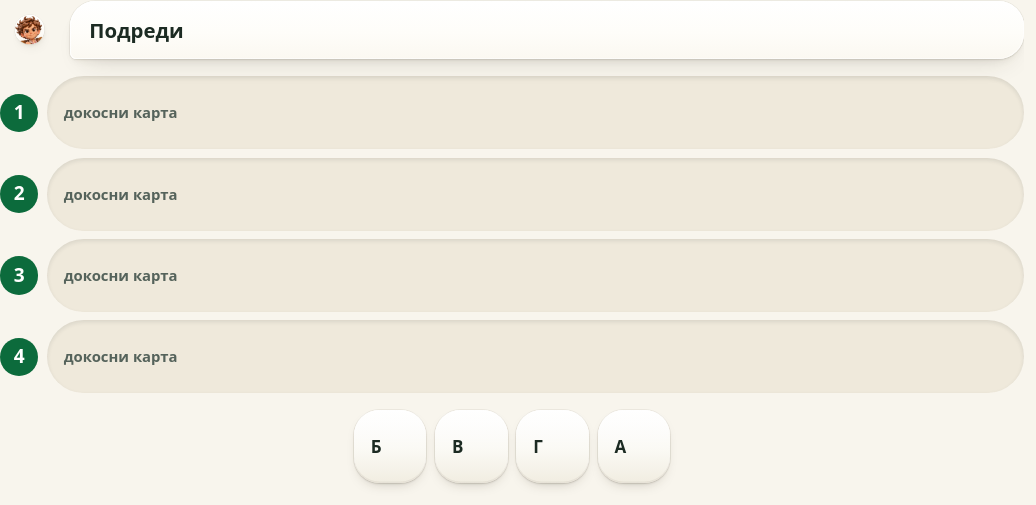
Test case: order › locks the right places, returns the wrong ones and helps
This screenshot has width=1036, height=505.
Later steps or results of the test are not shown.
Click the button "А": (634, 446) [598,410,670,483]
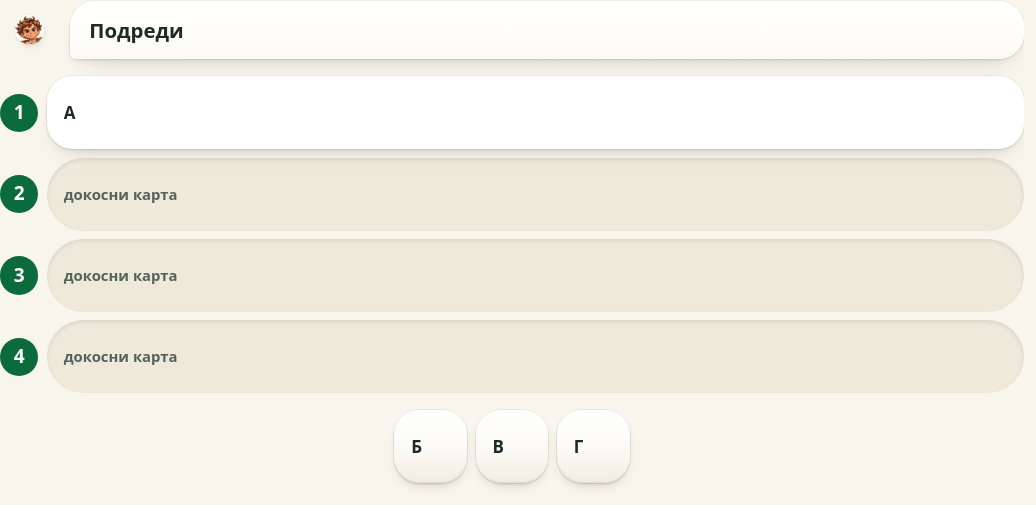
Click the button "Б": (431, 446) [394,410,467,483]
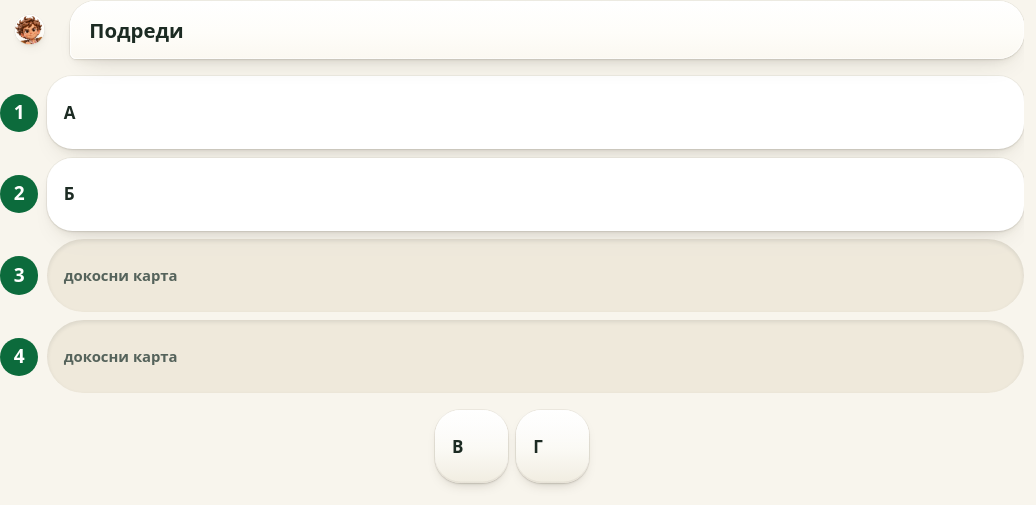
Click the button "Г": (553, 446) [516,410,589,483]
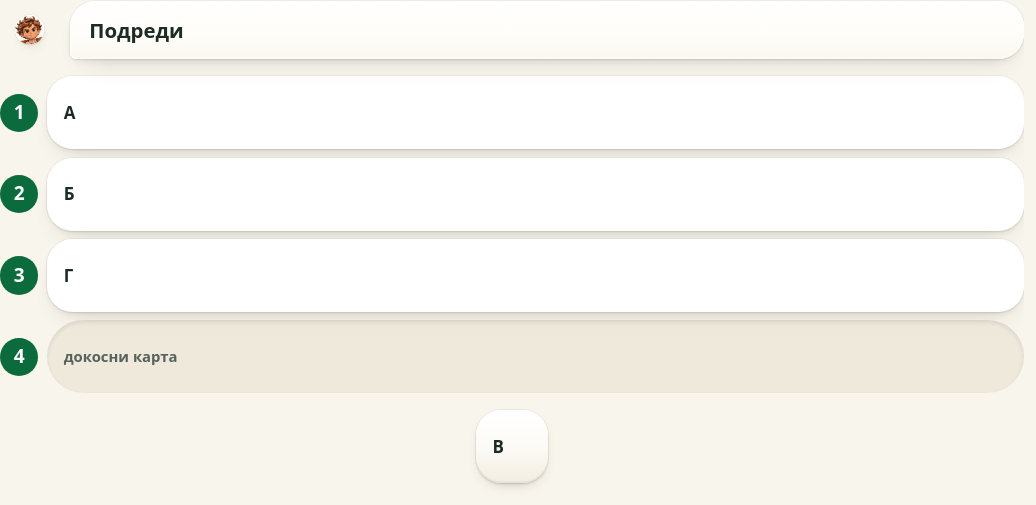
Click the button "В": (512, 446) [476,410,548,483]
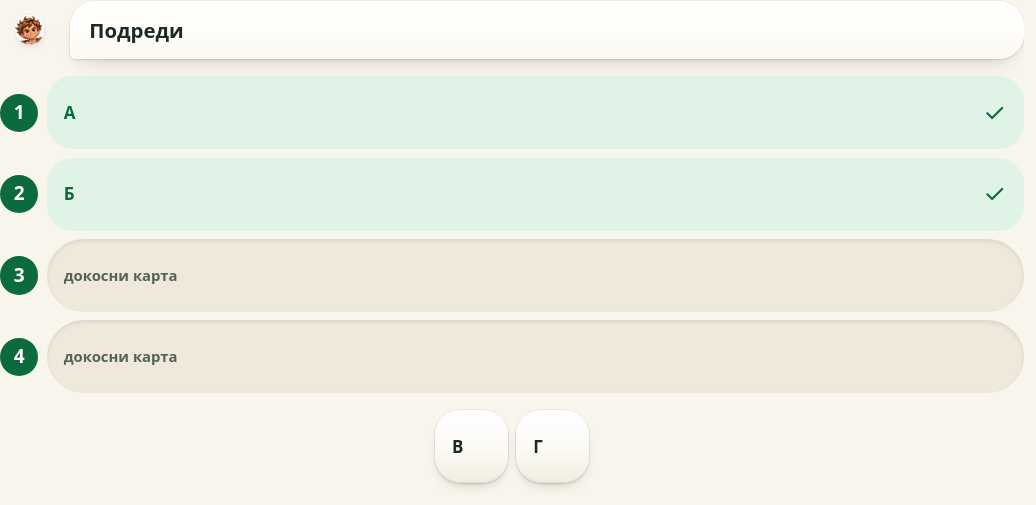
Expected: the button named "1. А" is disabled, [47,76,1024,149]
Expected: the button named "2. Б" is disabled, [47,158,1024,231]
